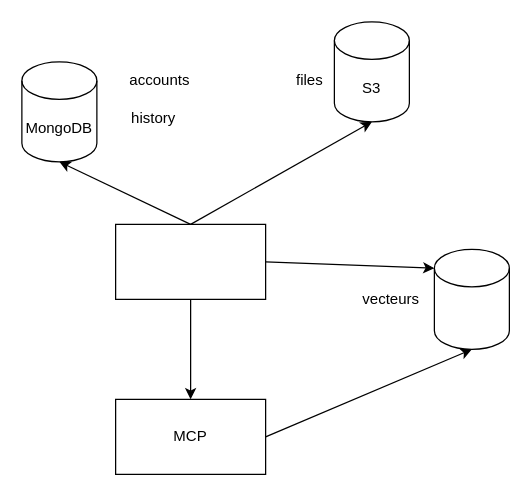
Image size: 531x496. Some labels were removed from this diagram. The centre of each missing label's shape, as x and y in pixels:
app: point 190,261
ChromaDB / qdrant: point 471,298
